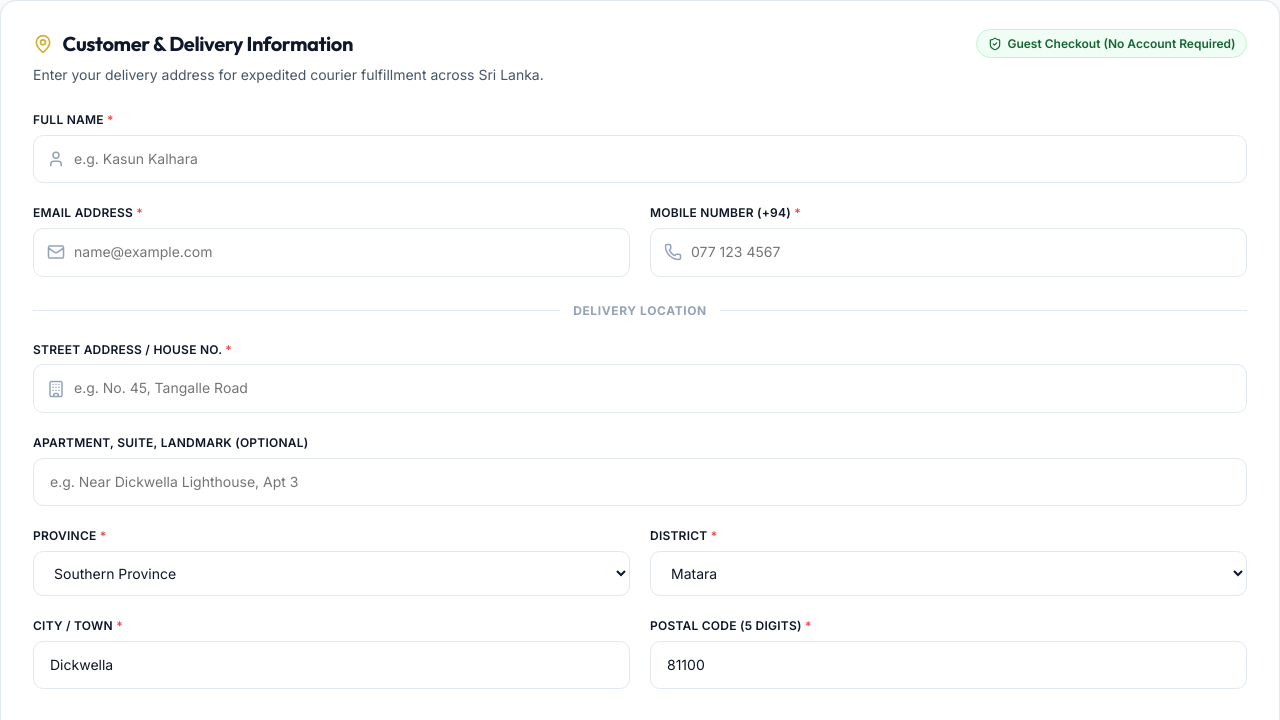
Test case: STORM-FE-011: Multi-Step Checkout Stepper, Address Book & Free Shipping Suite › AddressStep Form Validation & Submission (AC2 & AC4) › renders guest checkout badge and enforces required field validation on submit
expect the element with test id "guest-checkout-badge" is shown: met, box top-left (976, 29), bottom-right (1247, 58)
Clear input fields and submit empty
Clear the field with test id "input-fullname": (640,159) top-left (33, 135), bottom-right (1247, 183)
(page scrolled)
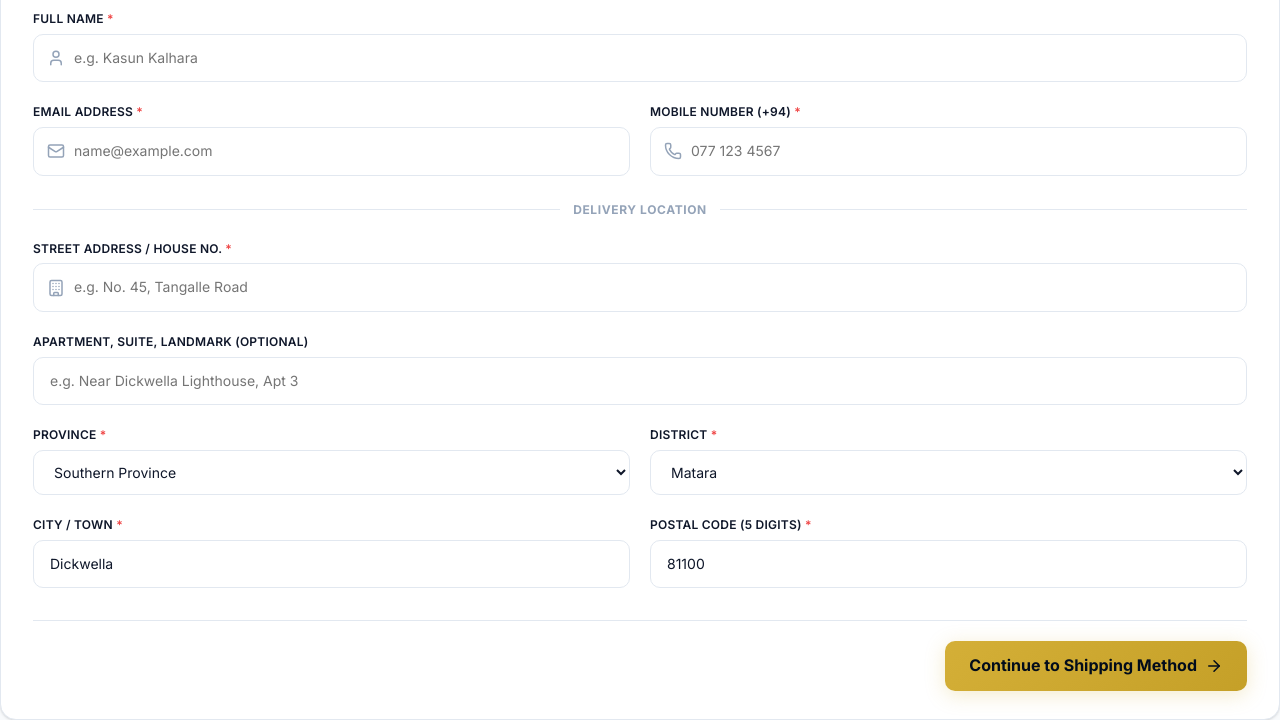
Click the button with test id "proceed-to-shipping-btn": (1096,666) top-left (945, 641), bottom-right (1247, 691)
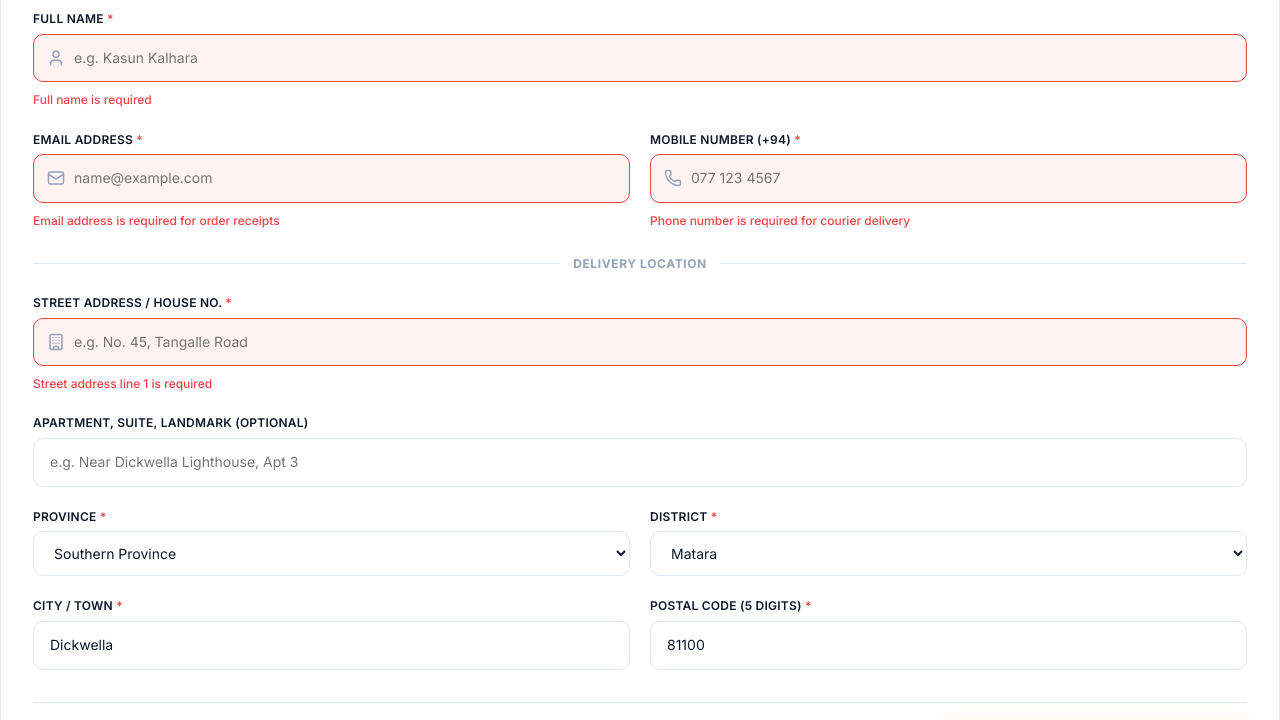
expect the text with test id "error-fullname" reads "Full name is required": met, box top-left (33, 92), bottom-right (152, 107)
